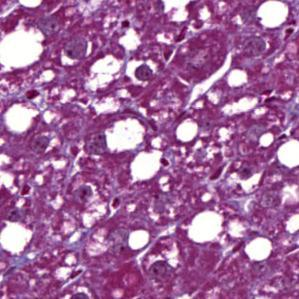steatosis: (130, 148, 165, 181), (128, 227, 150, 251), (177, 119, 198, 142)
